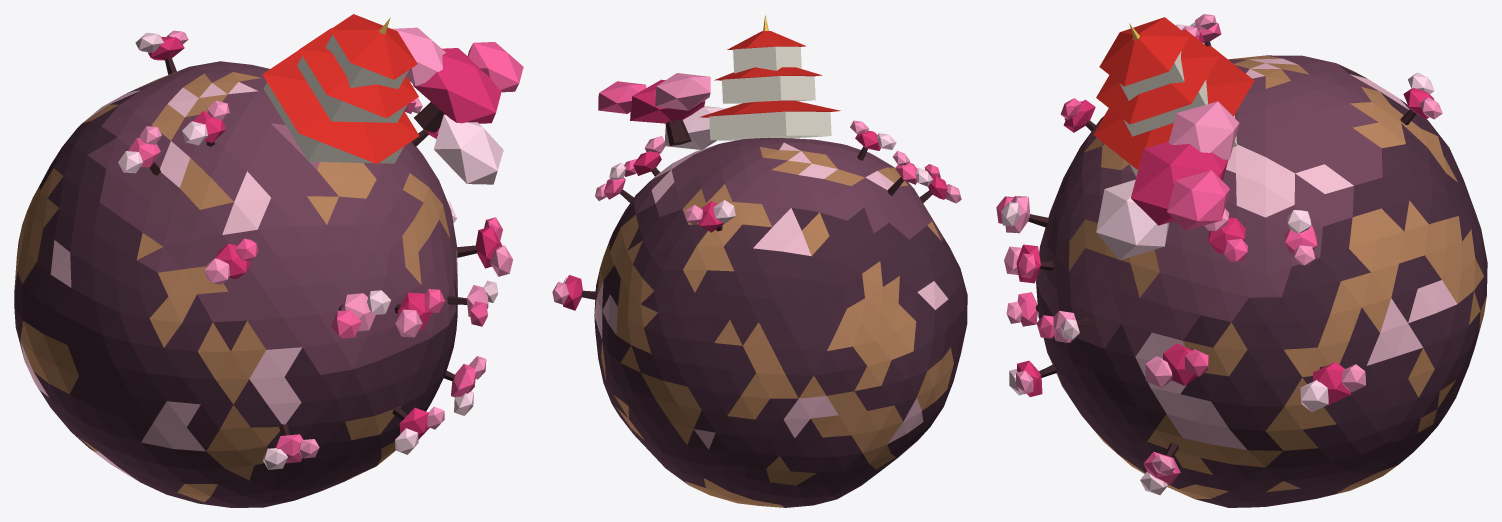
Rendered from Sakura_03.fbx.
3 renders of one model, left to right at view 1: azimuth 30°, elevation 25°; view 2: azimuth 150°, elevation 25°; view 3: azimuth 270°, elevation 25°, orthographic. The views are drawn at different scales.
Visible parts, largest first — view 1: Sakura_03; view 2: Sakura_03; view 3: Sakura_03.
Part boxes in pixels (<box>): Sakura_03: <box>14,14,523,507</box>; Sakura_03: <box>552,15,967,507</box>; Sakura_03: <box>996,14,1487,507</box>.
Bounding box in the file's own units: 6.93 × 7.36 × 6.53.
Materials: 1 (1 with a texture image).
